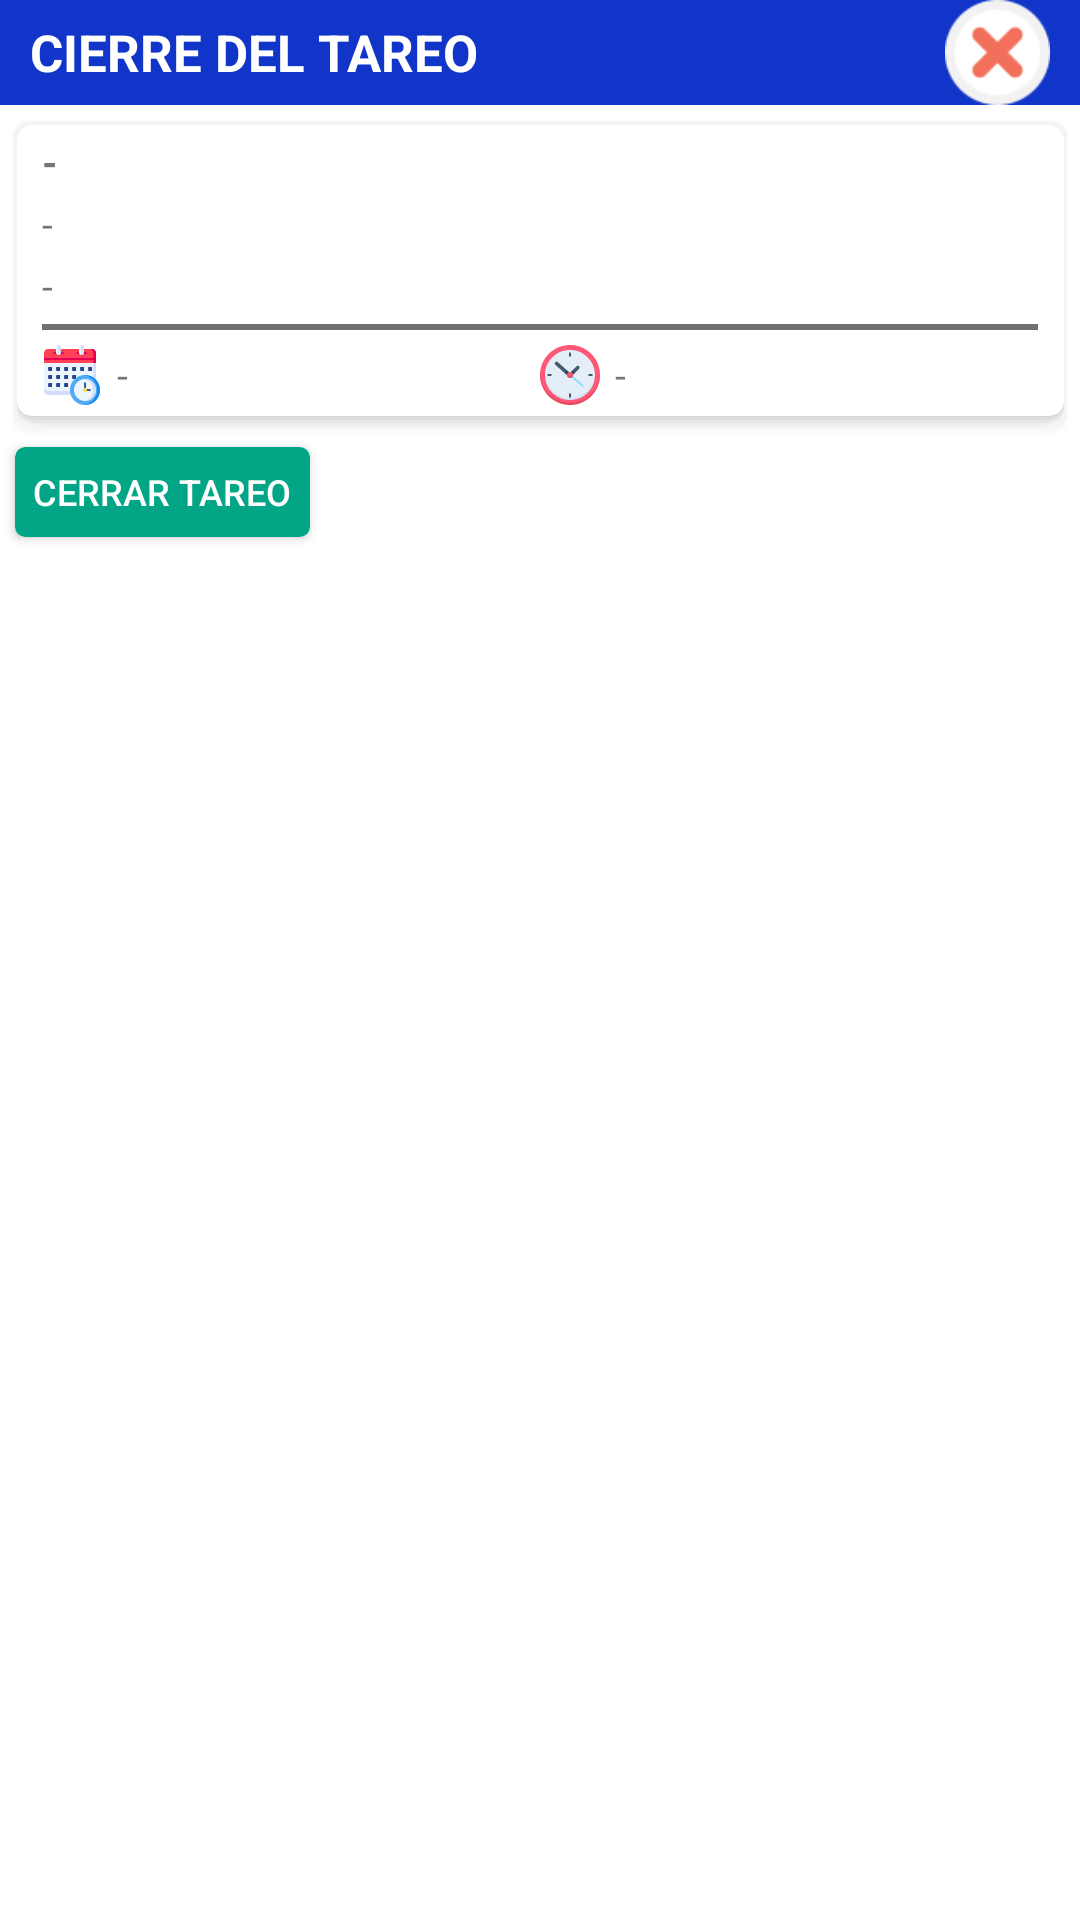

Named icons in this screenshot (1080x1920) and their centers, (x,y):
cancel: (997,52)
